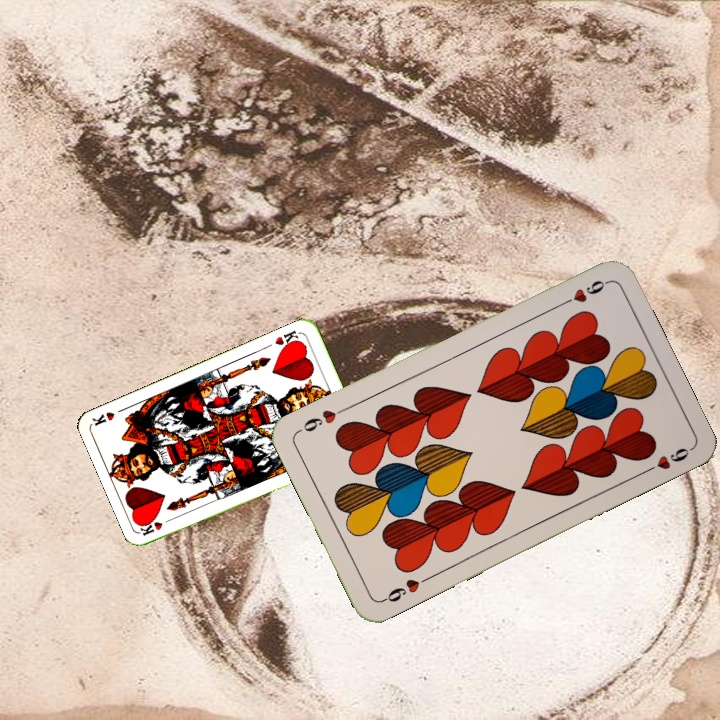H9: (555, 275, 610, 309), (377, 572, 433, 605)
HK: (137, 513, 177, 538), (271, 326, 303, 352)
